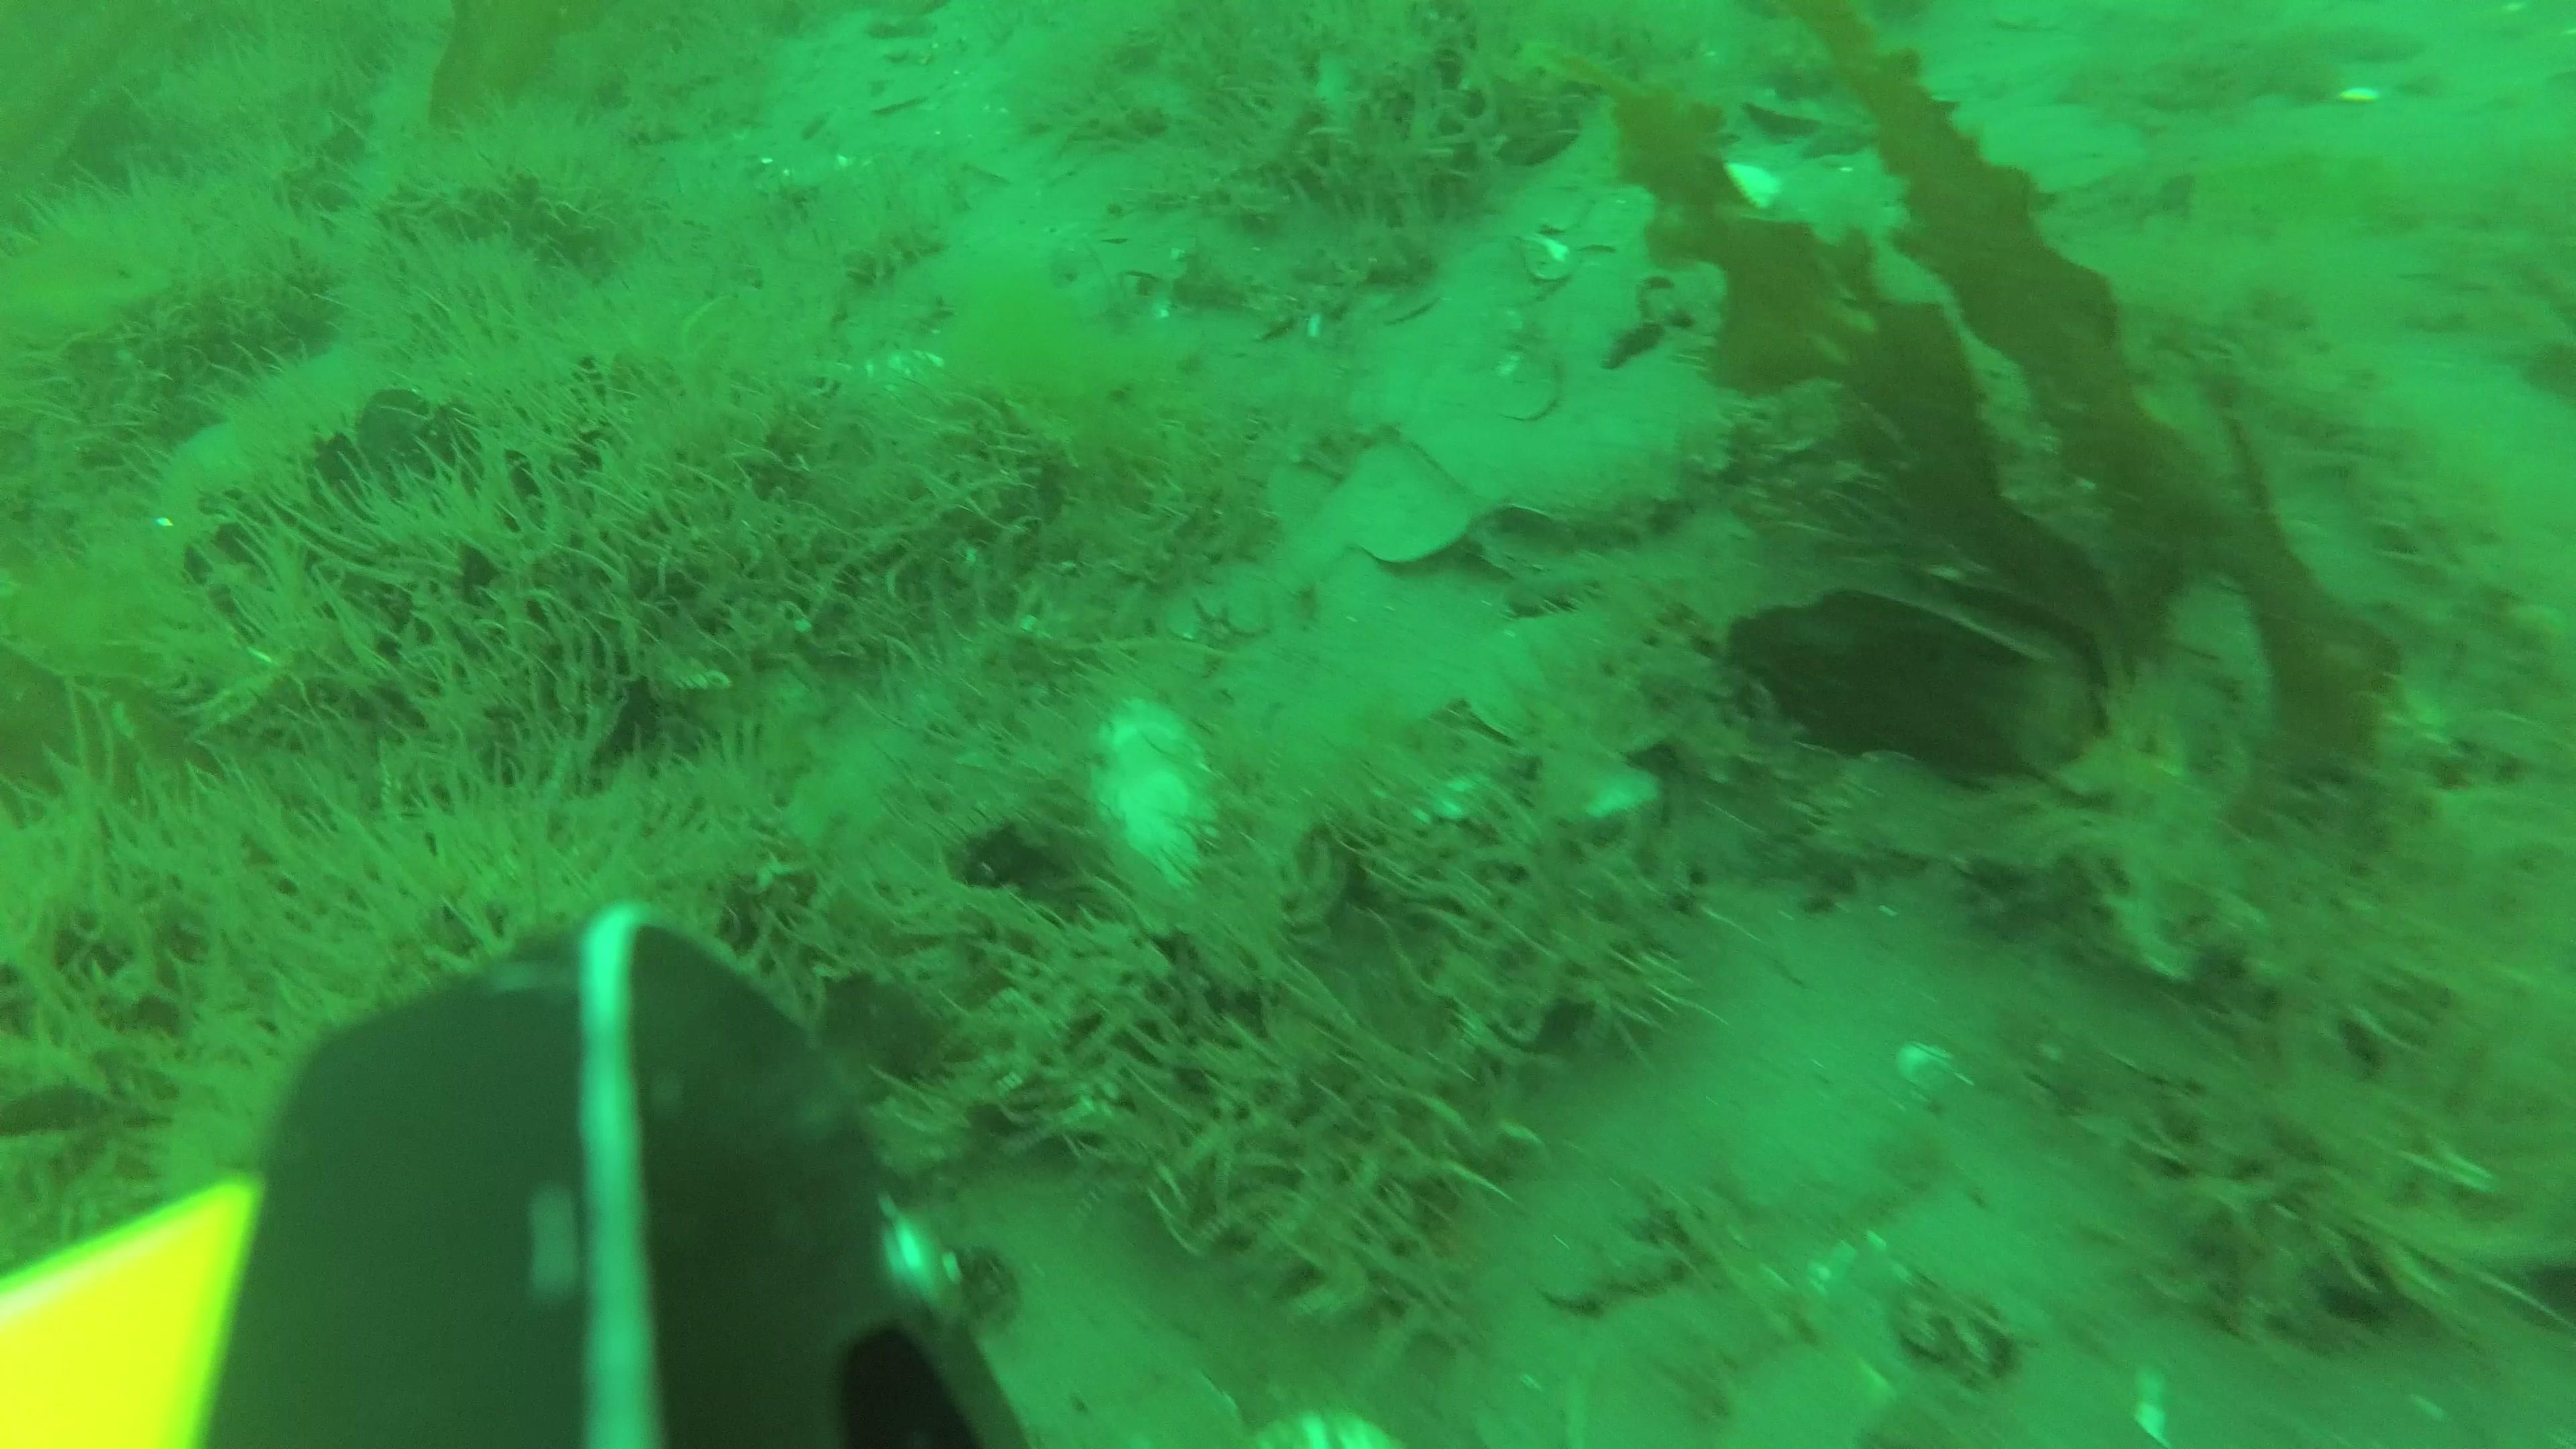scallop: (1569, 1261, 1888, 1449), (1456, 609, 1675, 755), (1095, 708, 1228, 888), (1681, 157, 1785, 211)
